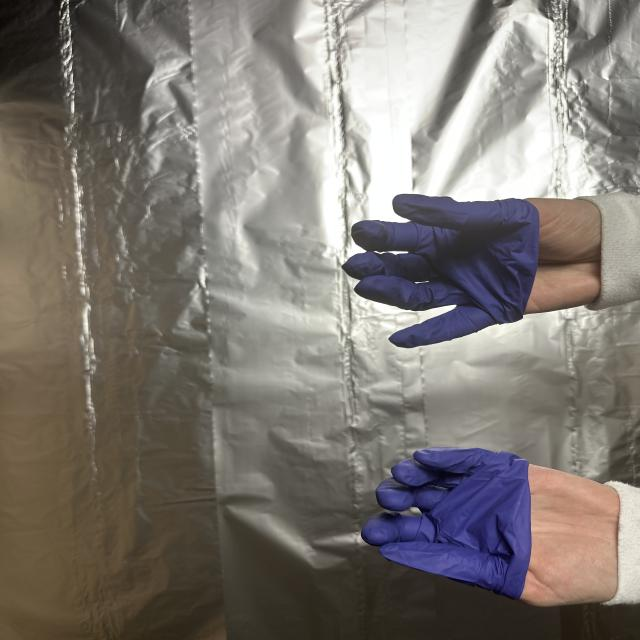glove_partial: (362, 446, 626, 610), (339, 190, 602, 347)
